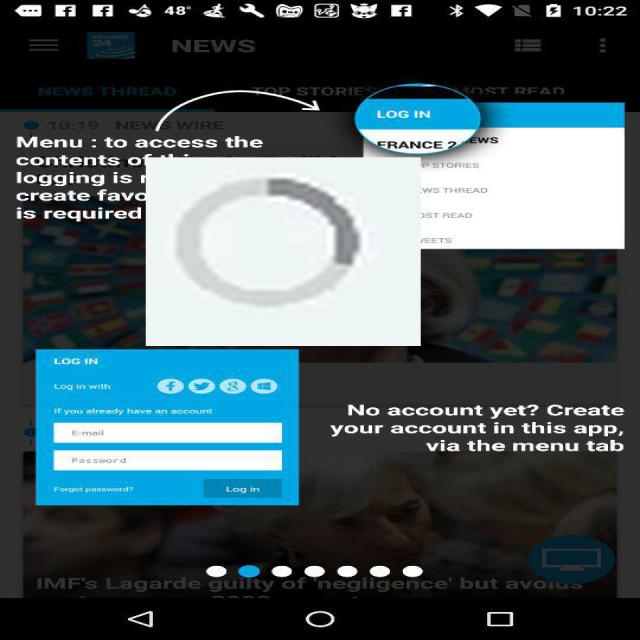misdirection: (146, 157, 421, 346)
